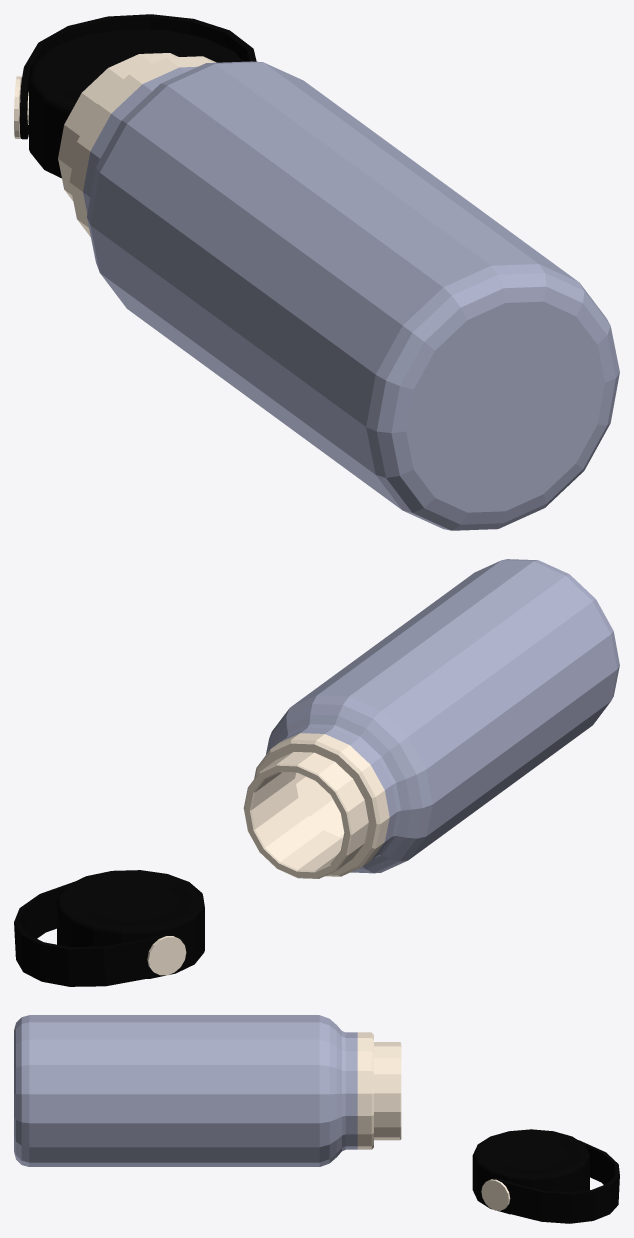
File: Bottle.fbx
3 views of the same model, one above another, from view 1: azimuth 30°, elevation 25°; view 2: azimuth 150°, elevation 25°; view 3: azimuth 270°, elevation 25° (orthographic). The views are drawn at different scales.
Parts seen in each view (by area): view 1: BottleBody, MainCap, Handle; view 2: BottleBody, MainCap, Handle; view 3: BottleBody, MainCap, Handle.
Part boxes in pixels (x1,y1,x2,y2): BottleBody: [58, 53, 619, 530]; MainCap: [14, 29, 242, 178]; Handle: [19, 14, 256, 139]; BottleBody: [243, 559, 619, 878]; MainCap: [57, 870, 204, 978]; Handle: [14, 882, 178, 986]; BottleBody: [14, 1015, 401, 1166]; MainCap: [472, 1129, 589, 1214]; Handle: [488, 1140, 619, 1223].
Bounding box in the file's own units: 227 × 150 × 598.
